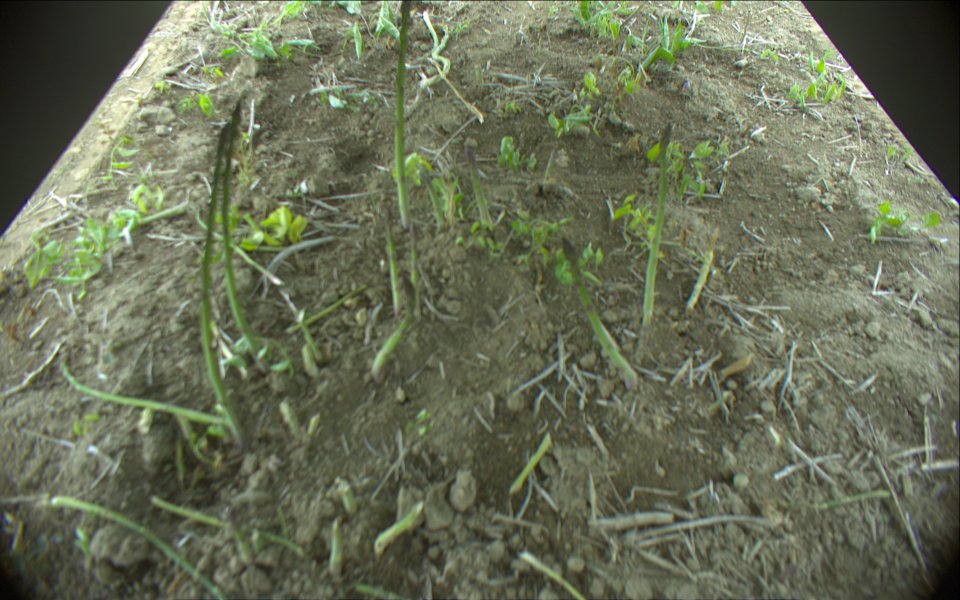aspa: (196, 211, 325, 364), (50, 497, 224, 600), (199, 122, 250, 448), (60, 347, 229, 426), (218, 101, 265, 368), (562, 240, 641, 392), (153, 496, 303, 557), (641, 124, 673, 329), (404, 3, 452, 114), (284, 288, 371, 335), (396, 1, 413, 230), (521, 551, 593, 600), (370, 315, 416, 384), (507, 434, 554, 496), (371, 505, 422, 556), (383, 202, 405, 313), (689, 231, 719, 311), (465, 139, 492, 227), (413, 227, 423, 320), (329, 519, 344, 579), (337, 476, 357, 512)
